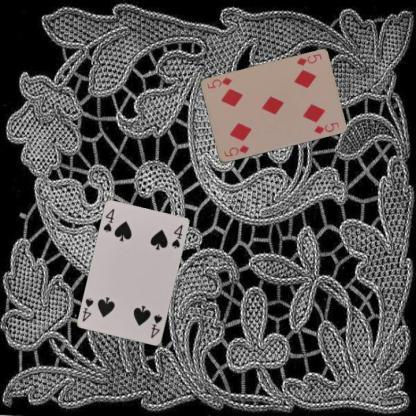4s: (148, 312, 164, 340), (101, 206, 116, 234)
5d: (294, 51, 323, 68), (221, 142, 250, 158)
